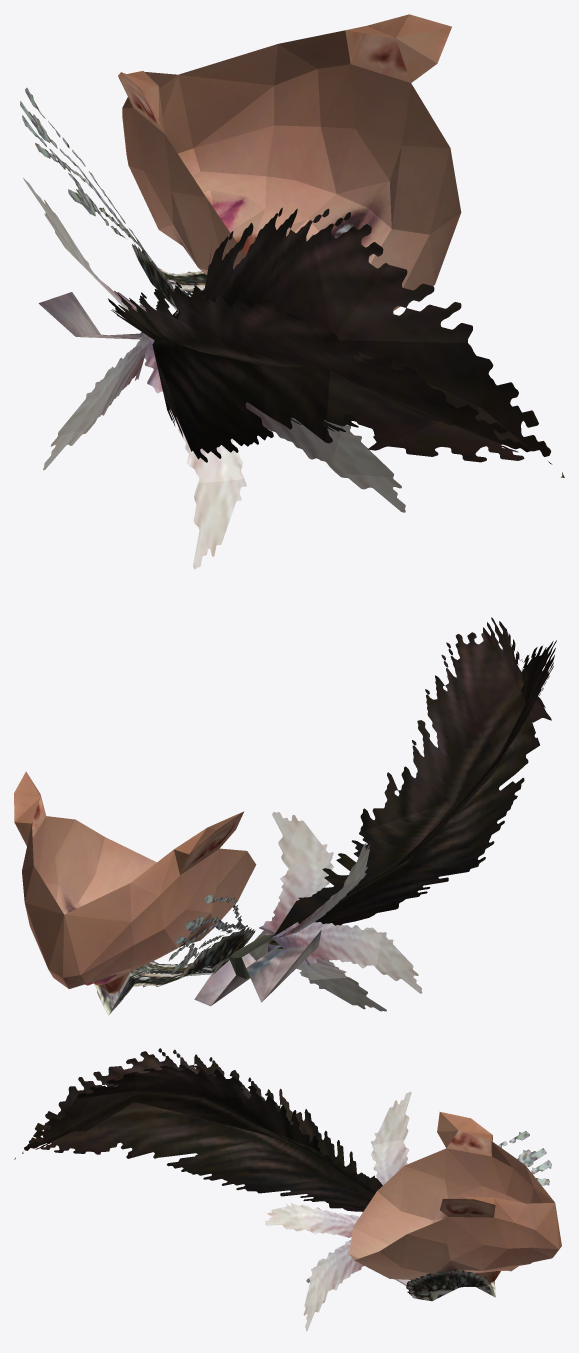
The model's file is common_face_female_2408.obj.
The picture shows the model from 3 angles, top to bottom: view 1: azimuth 30°, elevation 25°; view 2: azimuth 150°, elevation 25°; view 3: azimuth 270°, elevation 25°; orthographic projection. The views are drawn at different scales.
Parts seen in each view (by area): view 1: common_face_female_2408, common_face_female_2304; view 2: common_face_female_2408, common_face_female_2304; view 3: common_face_female_2408, common_face_female_2304.
Part boxes in pixels (x1,y1,x2,y2): common_face_female_2408: [20, 88, 564, 569]; common_face_female_2304: [118, 14, 461, 310]; common_face_female_2408: [94, 617, 556, 1015]; common_face_female_2304: [14, 771, 256, 993]; common_face_female_2408: [14, 1048, 551, 1331]; common_face_female_2304: [349, 1112, 561, 1283].
Bounding box in the file's own units: 11.33 × 9.74 × 20.86.
Materials: 2 (2 with a texture image).
